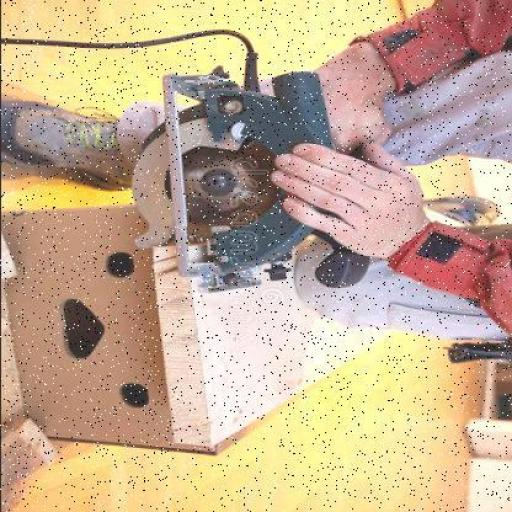safety_shoe: (1, 98, 142, 191)
